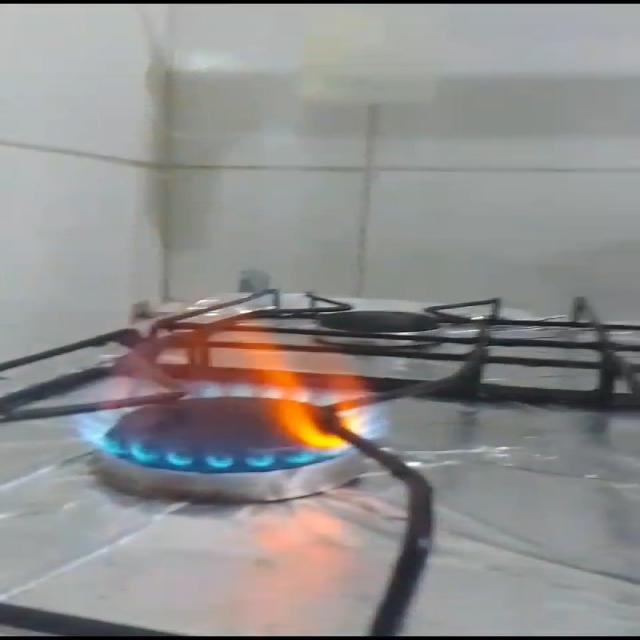fogo-ypXI: (70, 297, 393, 476)
